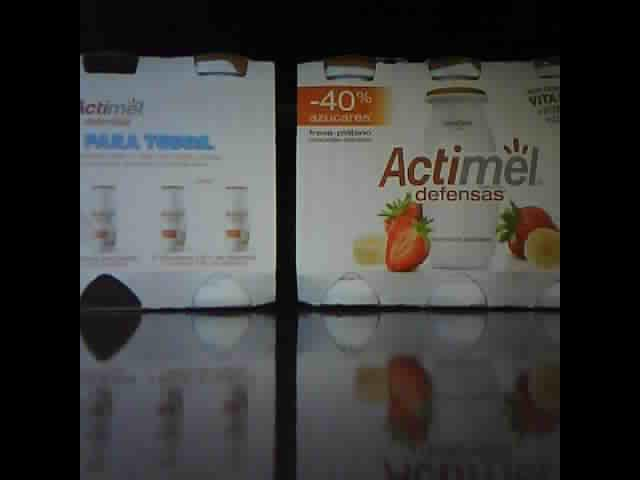actimel: (296, 57, 560, 309), (79, 46, 278, 312)
